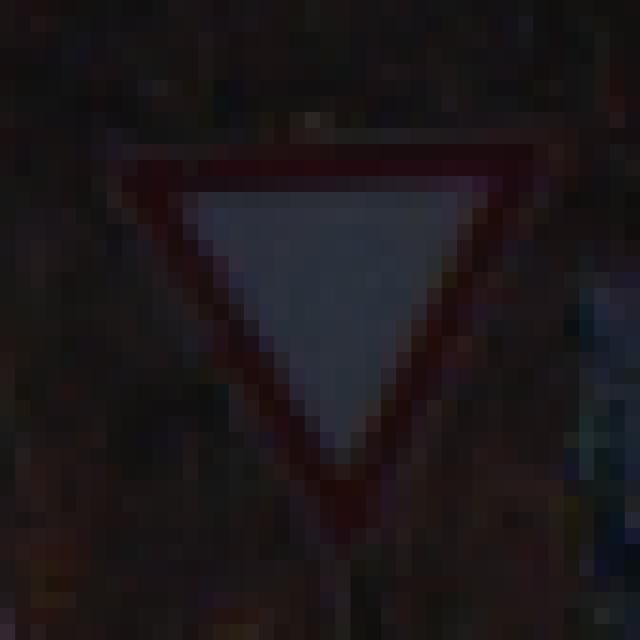Give Way: (77, 97, 565, 561)
